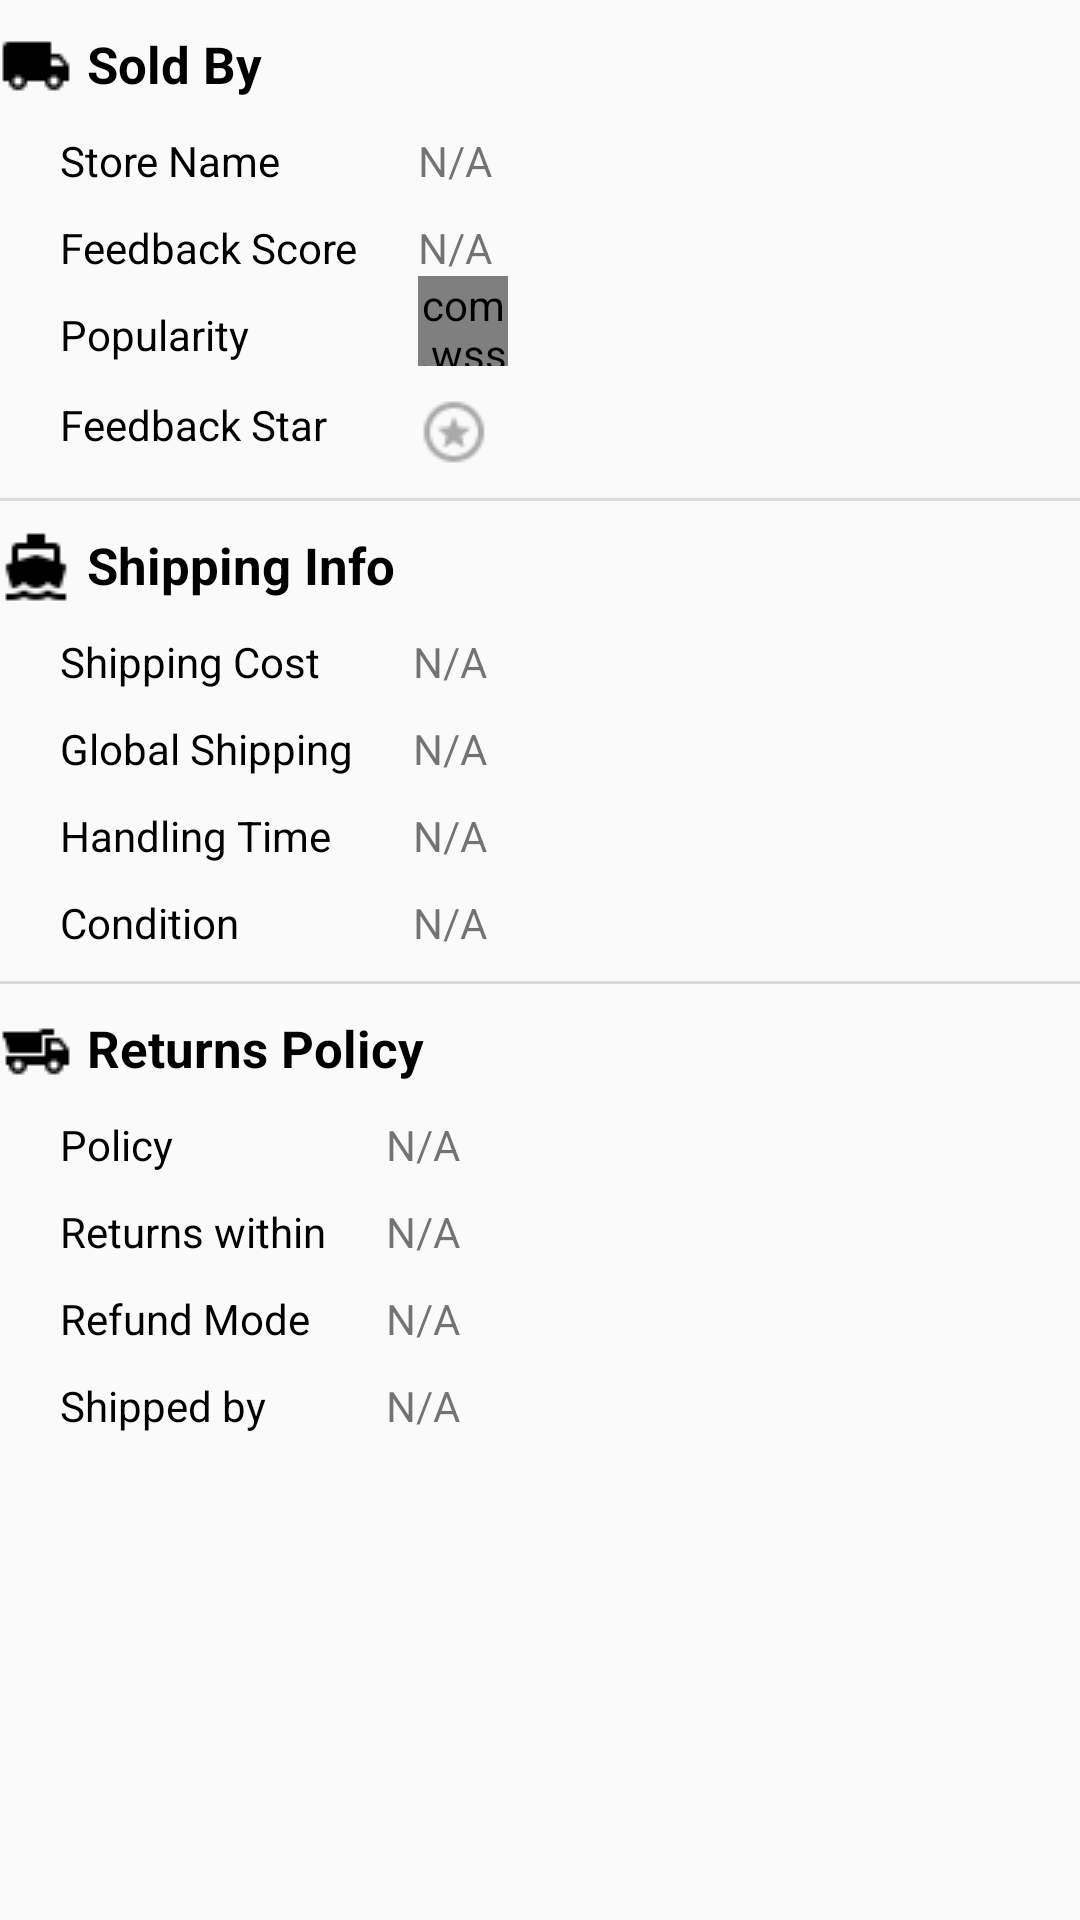

Locate icon controls on the screen. Image size 1080px x 1920px, boxes as (x1, y1, x2, y2).
star border: (423, 401, 485, 463)
